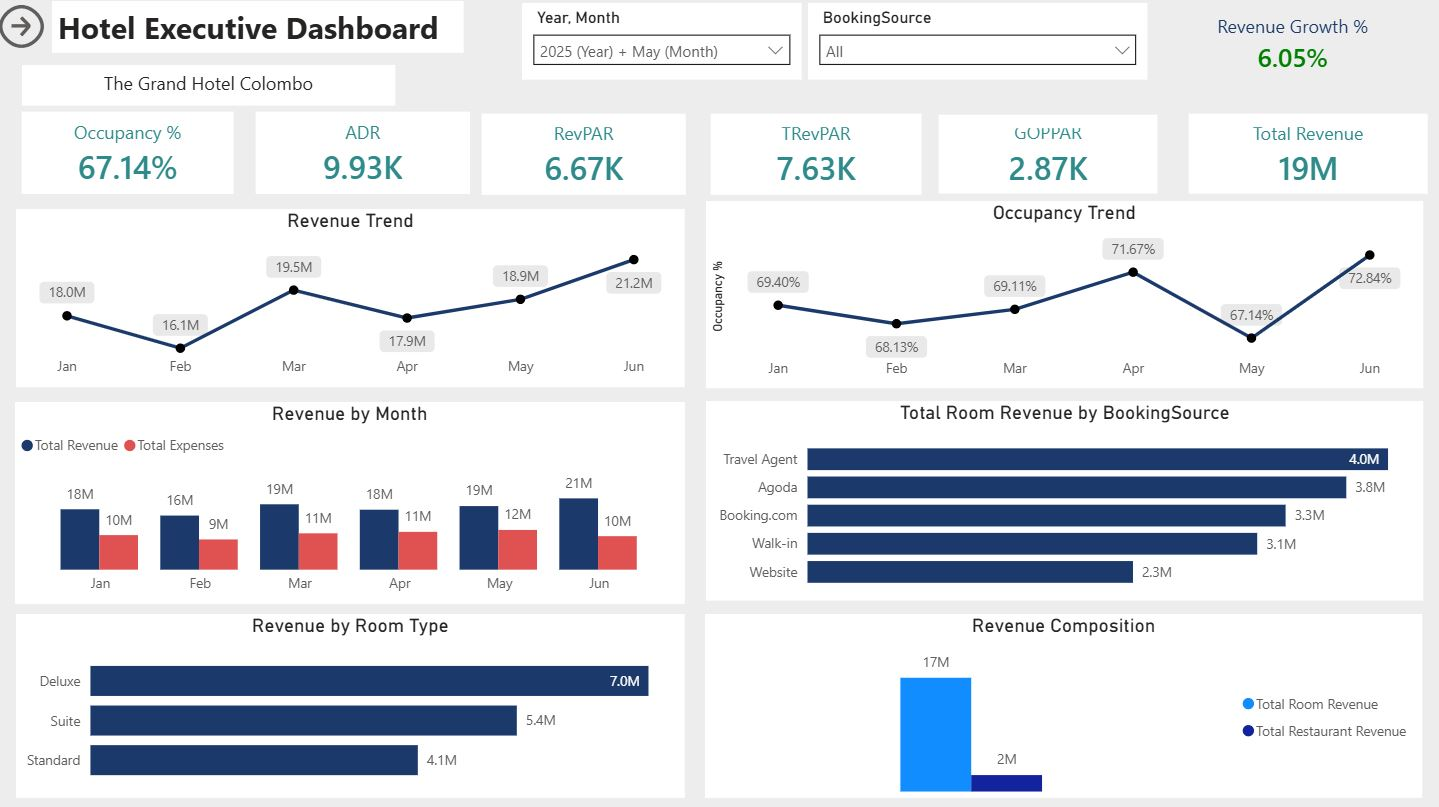

The dashboard page shown, as its layout file describes it:
{"tool":"powerbi","page":{"name":"Hotel Executive Dashboard","canvas":[1280,720],"ordinal":0},"visuals":[{"type":"cardVisual","fields":{"Data":["Measure.Total Revenue"]},"box":[1050,99.8,222.1,81.2],"z":0},{"type":"cardVisual","fields":{"Data":["Measure.Occupancy %"]},"box":[14.7,98.8,198.7,83.2],"z":1000},{"type":"cardVisual","fields":{"Data":["Measure.ADR"]},"box":[222.1,98.8,200.6,83.2],"z":2000},{"type":"cardVisual","fields":{"Data":["Measure.RevPAR"]},"box":[422.8,99.8,191.8,82.2],"z":3000},{"type":"cardVisual","fields":{"Data":["Measure.TRevPAR"]},"box":[626.3,99.8,197.7,82.2],"z":4000},{"type":"cardVisual","fields":{"Data":["Measure.GOPPAR"]},"box":[827.9,100.8,204.5,80.2],"z":5000},{"type":"lineChart","title":"Revenue Trend","fields":{"Y":["Measure.Total Revenue"],"Category":["DateTable.Month"]},"box":[14.7,189.8,593,157.6],"z":6000},{"type":"lineChart","title":"Occupancy Trend","fields":{"Category":["DateTable.Month"],"Y":["Measure.Occupancy %"]},"box":[626.7,182.2,635.6,166.2],"z":7000},{"type":"clusteredColumnChart","title":"Revenue by Month","fields":{"Category":["DateTable.Month"],"Y":["Measure.Total Revenue","Measure.Total Expenses"]},"box":[14.2,360.9,593.8,178.7],"z":8000},{"type":"barChart","fields":{"Category":["Reservations.BookingSource"],"Y":["Measure.Total Room Revenue"]},"box":[626.7,360,636.4,176.9],"z":9000},{"type":"barChart","title":"Revenue by Room Type","fields":{"Category":["Rooms.RoomType"],"Y":["Measure.Total Room Revenue"]},"box":[14.7,549,593,163.4],"z":10000},{"type":"clusteredColumnChart","title":"Revenue Composition","fields":{"Y":["Measure.Total Room Revenue","Measure.Total Restaurant Revenue"]},"box":[626.3,549,636.1,163.4],"z":11000},{"type":"textbox","box":[47,5.3,365.3,46.1],"z":12000},{"type":"slicer","fields":{"Values":["DateTable.Year","DateTable.Month"]},"box":[463.9,6.9,247.6,67.5],"z":13000},{"type":"slicer","fields":{"Values":["Reservations.BookingSource"]},"box":[717.3,6.9,301.4,67.5],"z":14000},{"type":"cardVisual","fields":{"Data":["Measure.Revenue Growth %"]},"box":[1032.4,0,230.9,86.1],"z":15000},{"type":"textbox","box":[20.4,62.1,330.7,36.4],"z":16000},{"type":"actionButton","box":[0,8.9,39.9,38.1],"z":17000}]}

Visuals, with their boxes in screenshot pixels (x1, y1, x2, y2), scaled from the page's 1280x720 canvas onto the 1439x807 screenshot:
cardVisual - Measure.Total Revenue: {"x1": 1180, "y1": 112, "x2": 1430, "y2": 203}
cardVisual - Measure.Occupancy %: {"x1": 17, "y1": 111, "x2": 240, "y2": 204}
cardVisual - Measure.ADR: {"x1": 250, "y1": 111, "x2": 475, "y2": 204}
cardVisual - Measure.RevPAR: {"x1": 475, "y1": 112, "x2": 691, "y2": 204}
cardVisual - Measure.TRevPAR: {"x1": 704, "y1": 112, "x2": 926, "y2": 204}
cardVisual - Measure.GOPPAR: {"x1": 931, "y1": 113, "x2": 1161, "y2": 203}
"Revenue Trend" lineChart: {"x1": 17, "y1": 213, "x2": 683, "y2": 389}
"Occupancy Trend" lineChart: {"x1": 705, "y1": 204, "x2": 1419, "y2": 390}
"Revenue by Month" clusteredColumnChart: {"x1": 16, "y1": 405, "x2": 684, "y2": 605}
barChart - Reservations.BookingSource x Measure.Total Room Revenue: {"x1": 705, "y1": 404, "x2": 1420, "y2": 602}
"Revenue by Room Type" barChart: {"x1": 17, "y1": 615, "x2": 683, "y2": 798}
"Revenue Composition" clusteredColumnChart: {"x1": 704, "y1": 615, "x2": 1419, "y2": 798}
textbox: {"x1": 53, "y1": 6, "x2": 464, "y2": 58}
slicer - DateTable.Year x DateTable.Month: {"x1": 522, "y1": 8, "x2": 800, "y2": 83}
slicer - Reservations.BookingSource: {"x1": 806, "y1": 8, "x2": 1145, "y2": 83}
cardVisual - Measure.Revenue Growth %: {"x1": 1161, "y1": 0, "x2": 1420, "y2": 97}
textbox: {"x1": 23, "y1": 70, "x2": 395, "y2": 110}
actionButton: {"x1": 0, "y1": 10, "x2": 45, "y2": 53}
